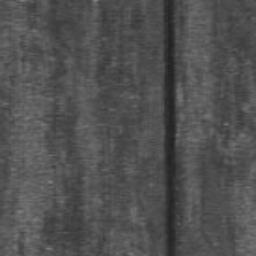Scratches: (163, 0, 177, 256)
